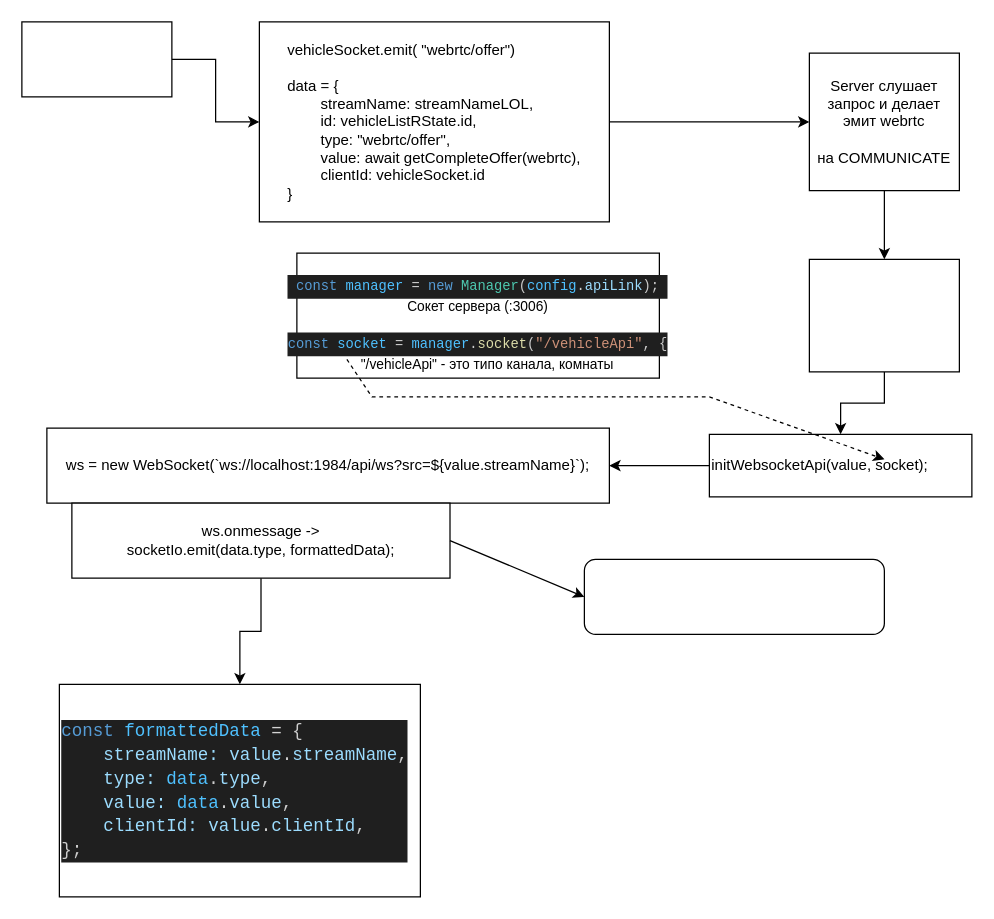
This 994x919 diagram has some shape labels left out. The centre of each missing label's shape, as x and y in pixels:
"Communicate делает send(data); Далее ->" belongs at [883,315].
"Идет отправка обратно на сервер, наверное" belongs at [733,596].
"Интерйфес пользователя" belongs at [96,59].
